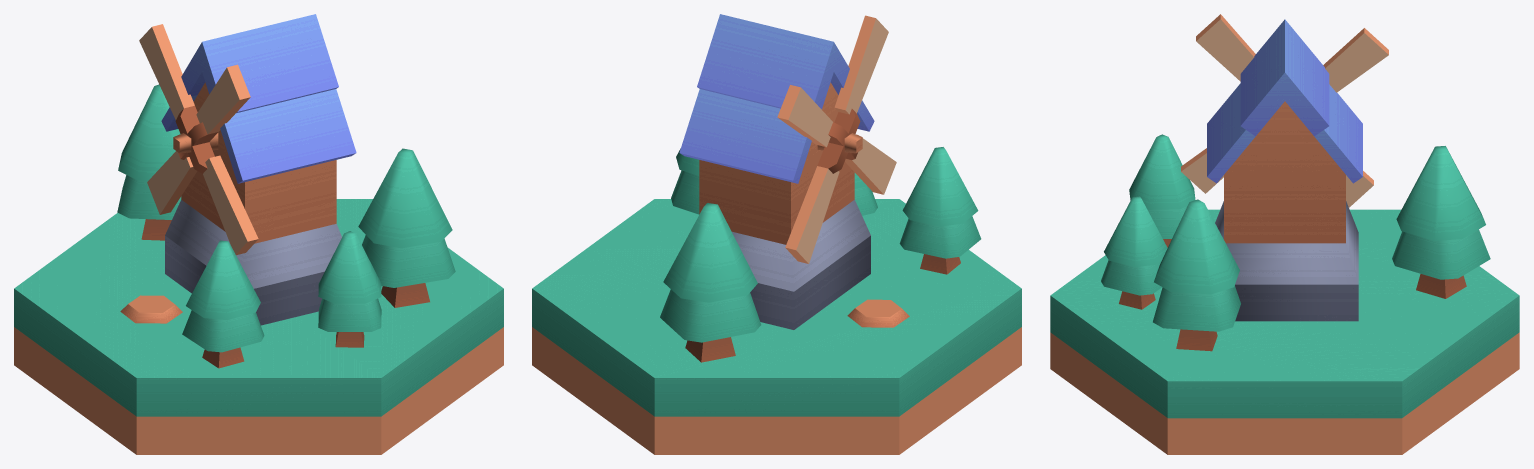
Rendered from building-mill.glb.
3 renders of one model, left to right at view 1: azimuth 30°, elevation 25°; view 2: azimuth 150°, elevation 25°; view 3: azimuth 270°, elevation 25°, orthographic. The views are drawn at different scales.
Parts seen in each view (by area): view 1: building-mill, rotate-x; view 2: building-mill, rotate-x; view 3: building-mill, rotate-x.
Boxes of the visible parts, <box> form: building-mill: <box>14,14,503,454</box>; rotate-x: <box>139,24,258,255</box>; building-mill: <box>532,14,1021,454</box>; rotate-x: <box>777,15,896,263</box>; building-mill: <box>1050,19,1519,454</box>; rotate-x: <box>1181,14,1388,207</box>.
Size of the model in its own units: 1 by 0.8811 by 1.15.
1 material, 1 textured.
